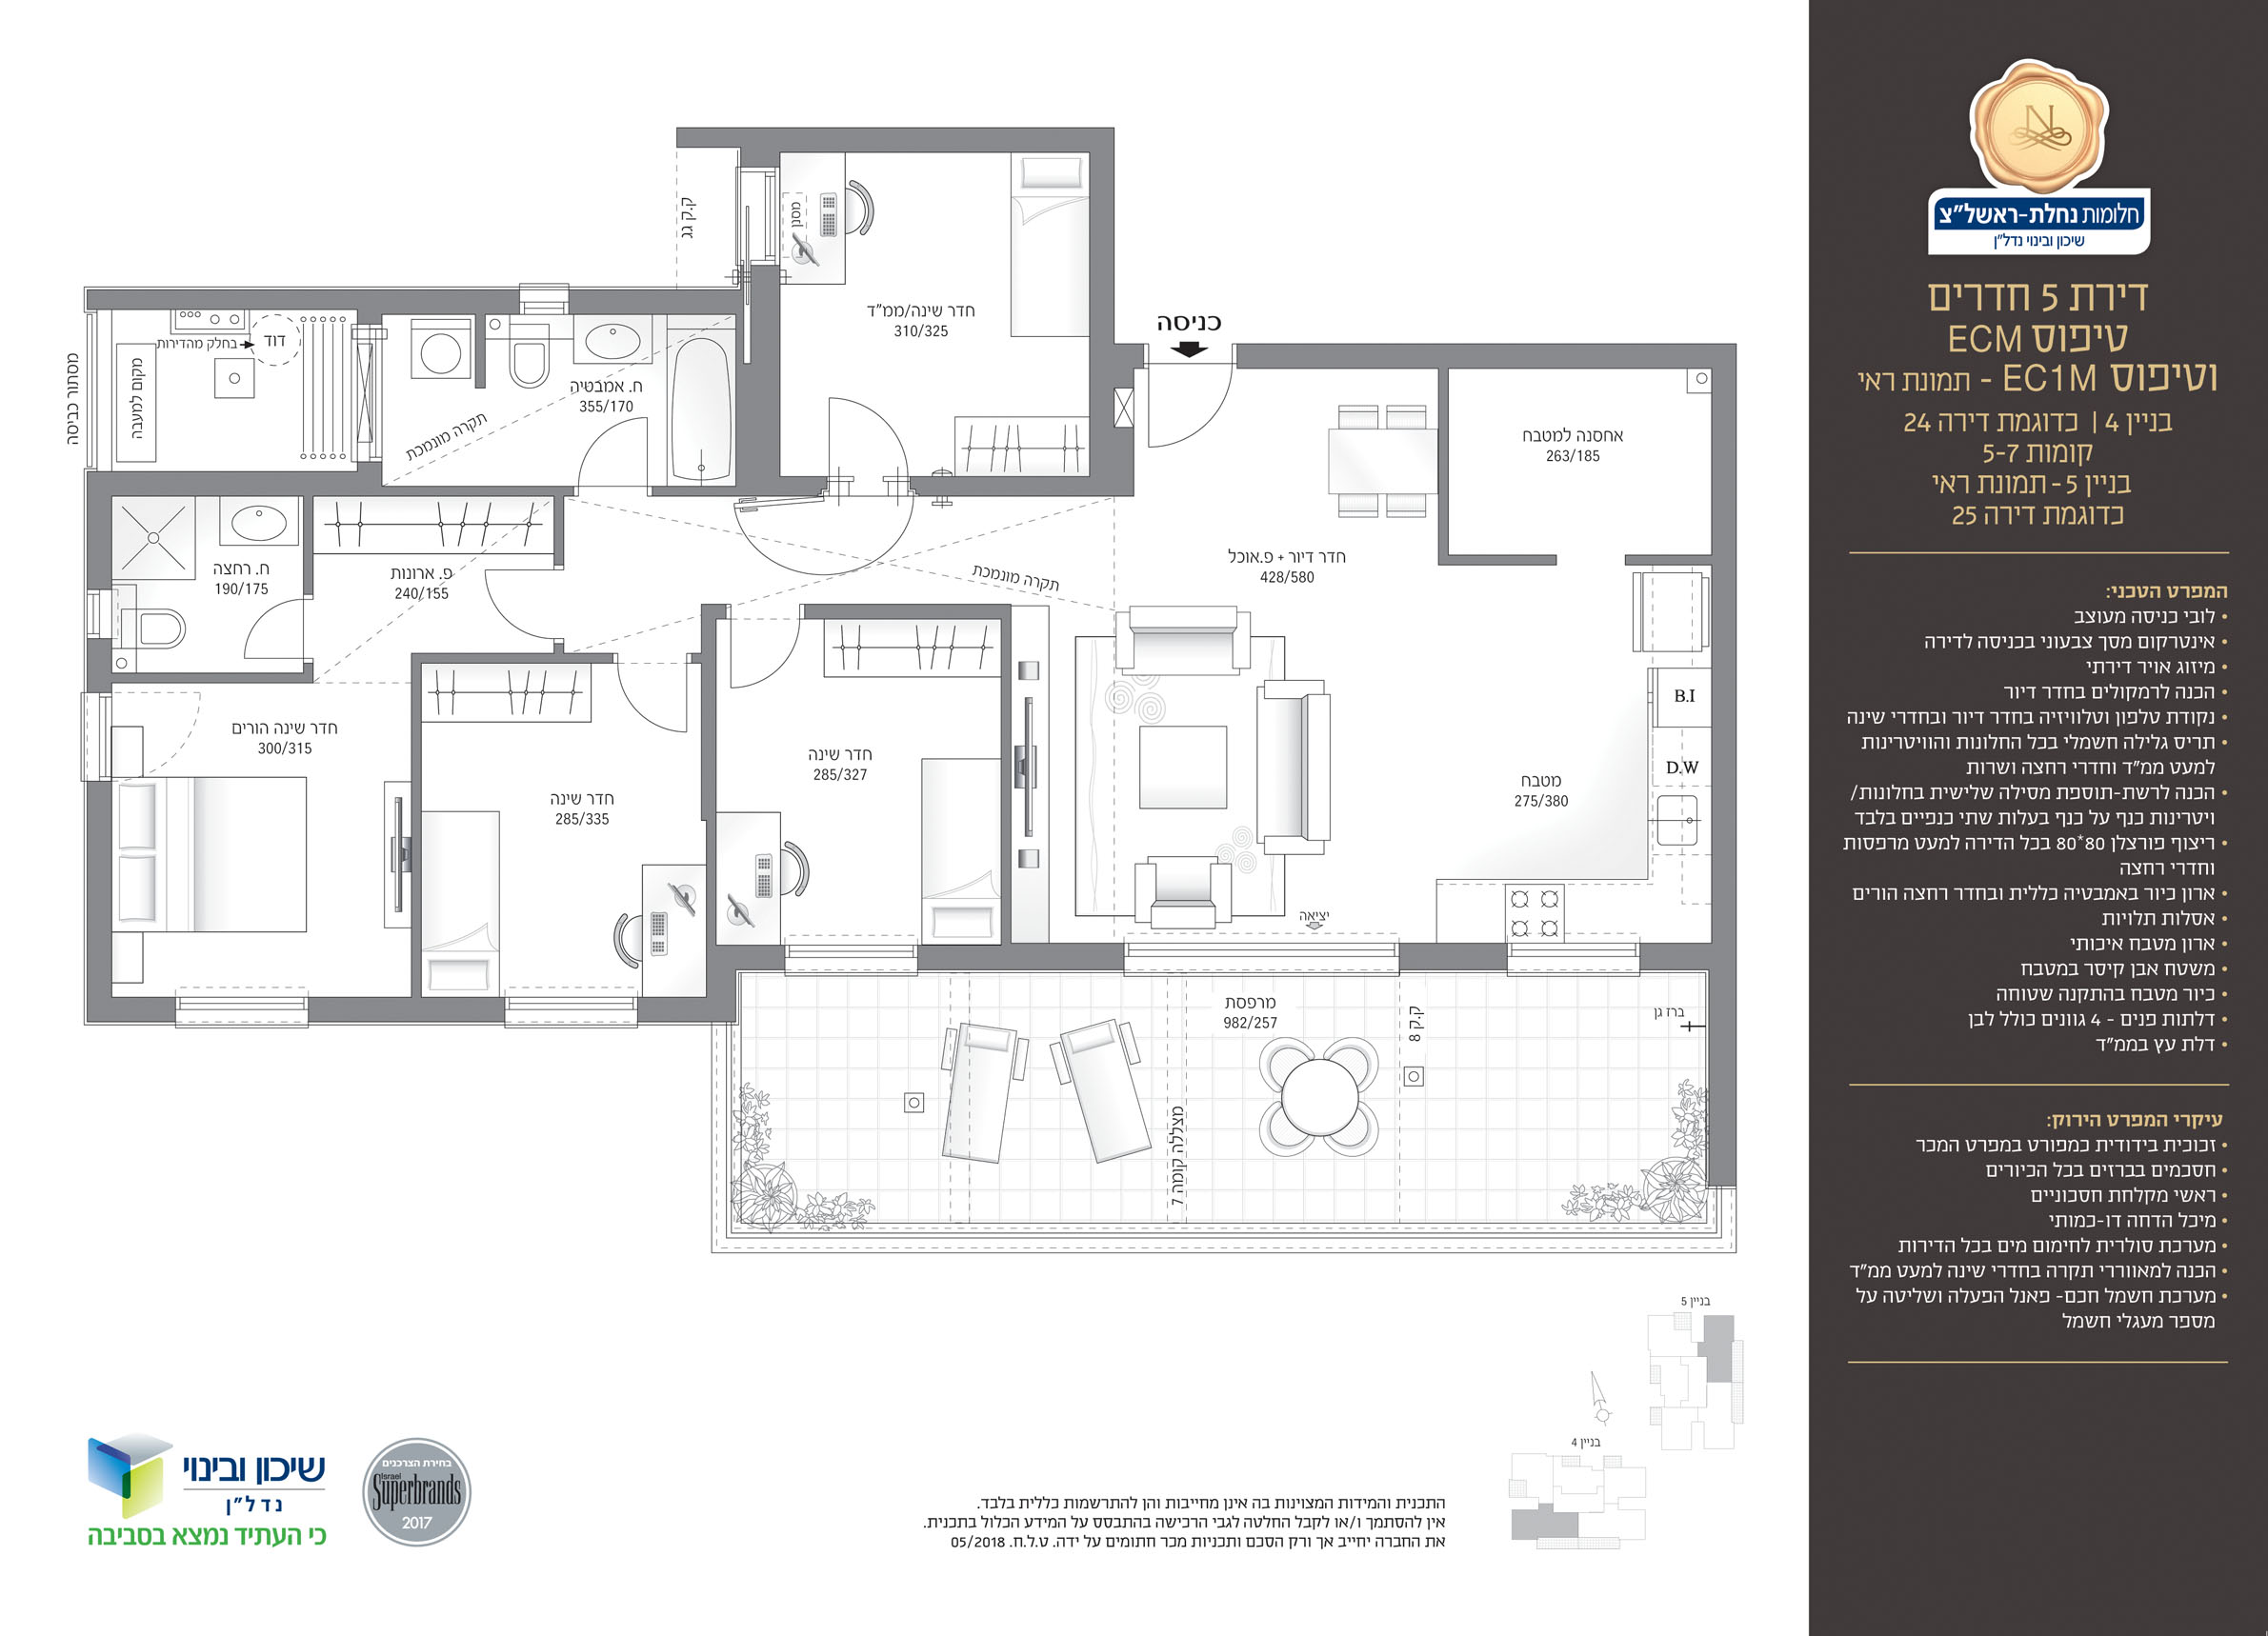door: (720, 641, 817, 704), (475, 558, 548, 641), (571, 412, 660, 477), (613, 678, 694, 740), (239, 593, 292, 669)
wall: (678, 125, 1108, 155), (1717, 359, 1731, 1192), (1240, 345, 1726, 368), (1086, 143, 1115, 493)
window: (1127, 939, 1393, 977), (792, 947, 914, 986), (178, 999, 305, 1032), (504, 1004, 641, 1025)
